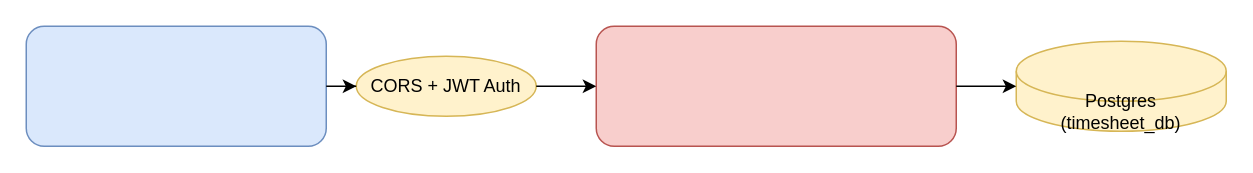
Image size: 1253x173. Some labels were removed from this diagram. Each missing label, with the centre of its shape:
"React SPA (Vite + Router + MUI)" goes at [175,85].
"Spring Boot API (Controllers + Services + Repos)" goes at [775,85].
